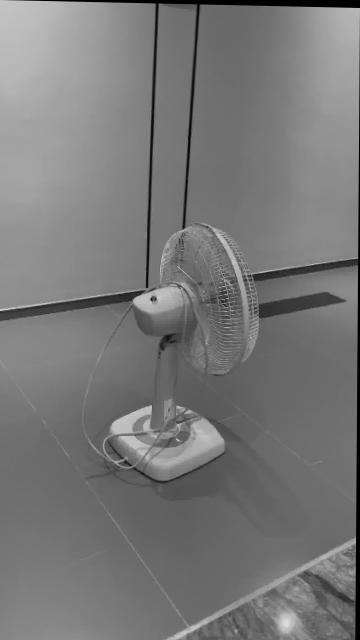Fan: (107, 223, 260, 482)
